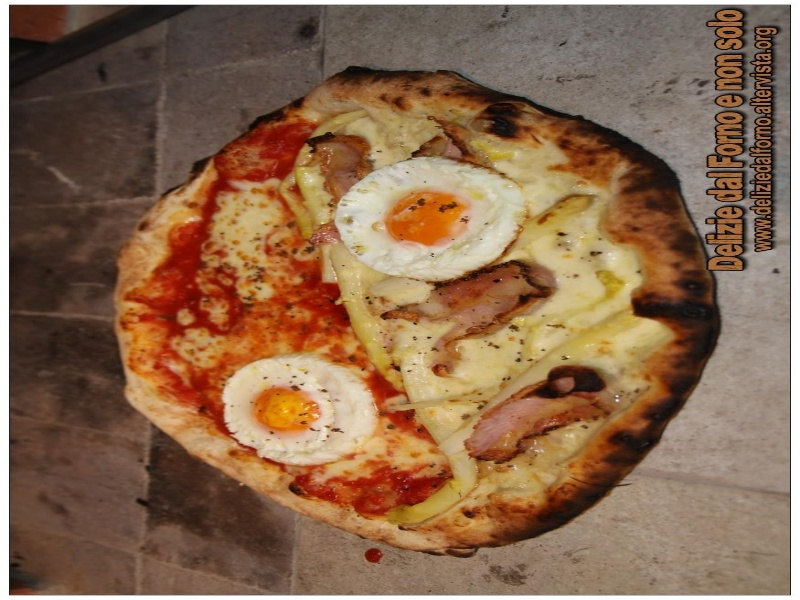oeuf: (373, 188, 483, 266), (250, 379, 348, 446)
